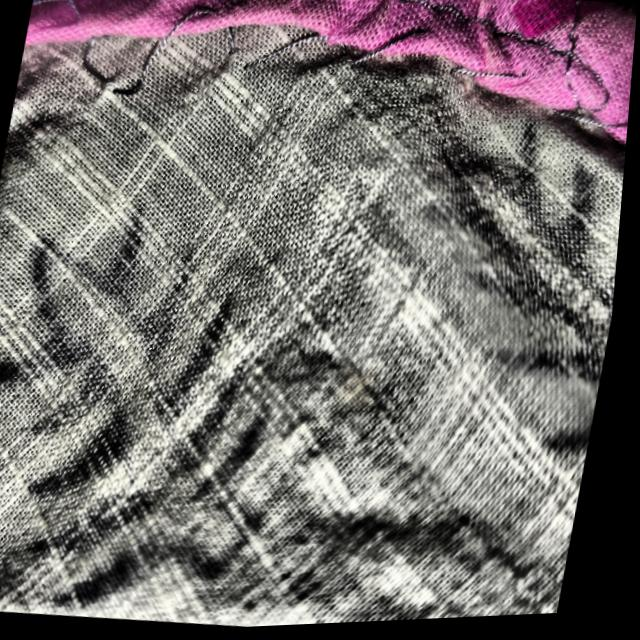Stitch: (13, 0, 288, 125)
